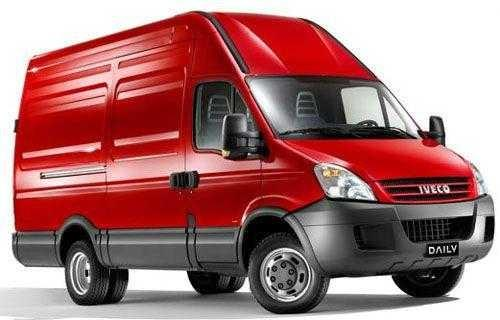car: (10, 10, 494, 313)
